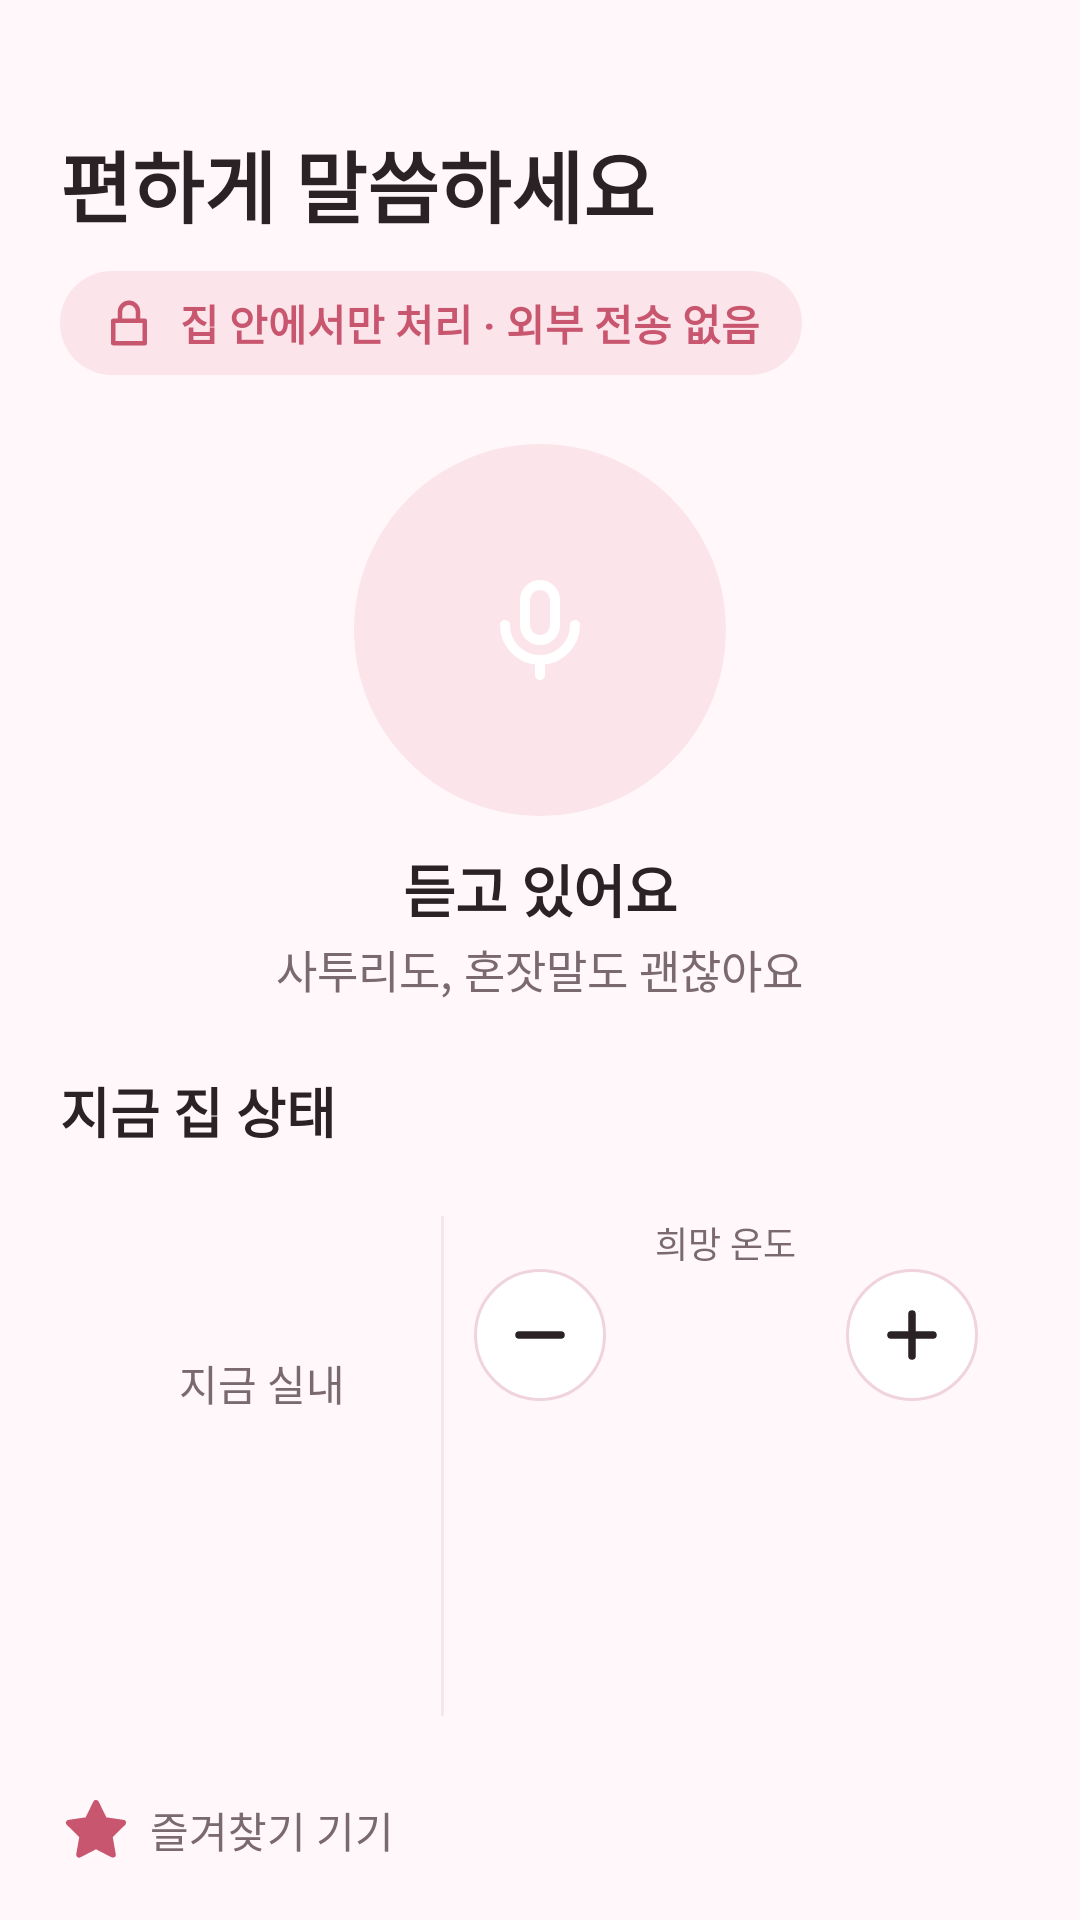

Where to tap for icons on this 1080 x 1920 app screen, as [x,y]:
lock: [129,323]
mic: [540,630]
